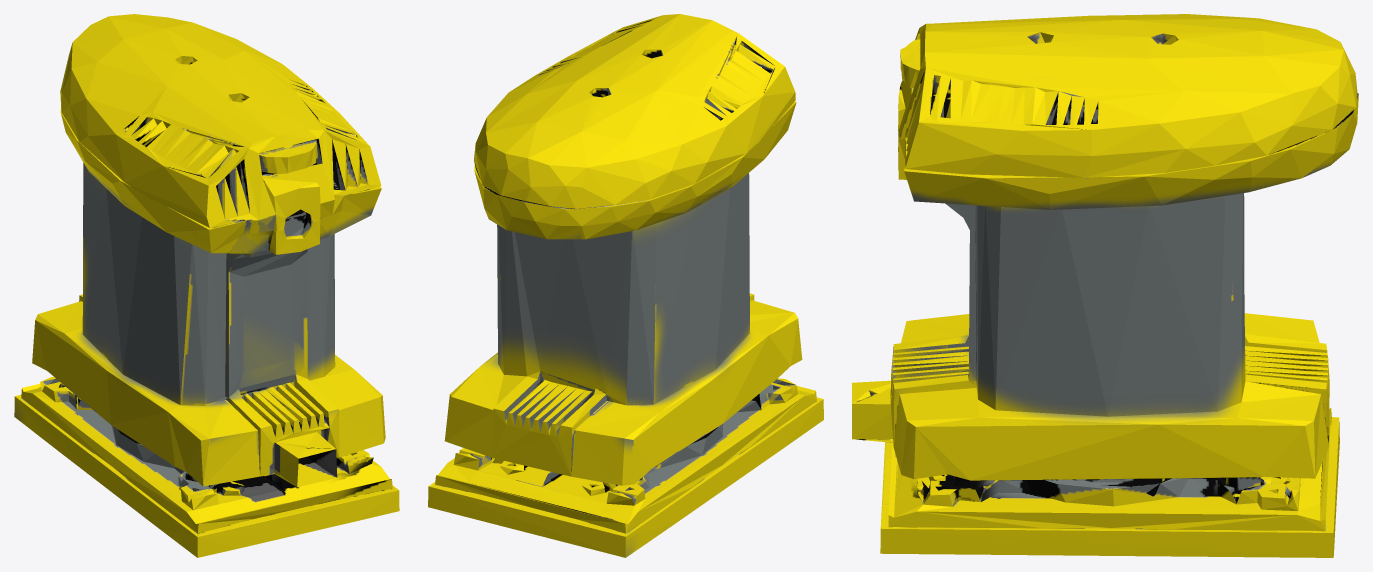
File: sander.dae
3 views of the same model, side by side, from view 1: azimuth 30°, elevation 25°; view 2: azimuth 150°, elevation 25°; view 3: azimuth 270°, elevation 25° (orthographic). The views are drawn at different scales.
Parts seen in each view (by area): view 1: Excenterslip Festo; view 2: Excenterslip Festo; view 3: Excenterslip Festo.
Boxes of the visible parts, bbox=[...] form: Excenterslip Festo: bbox=[14, 14, 399, 557]; Excenterslip Festo: bbox=[428, 14, 823, 557]; Excenterslip Festo: bbox=[852, 14, 1358, 557].
Size of the model in its own units: 0.1674 by 0.2944 by 0.2956.
1 material, 1 textured.
